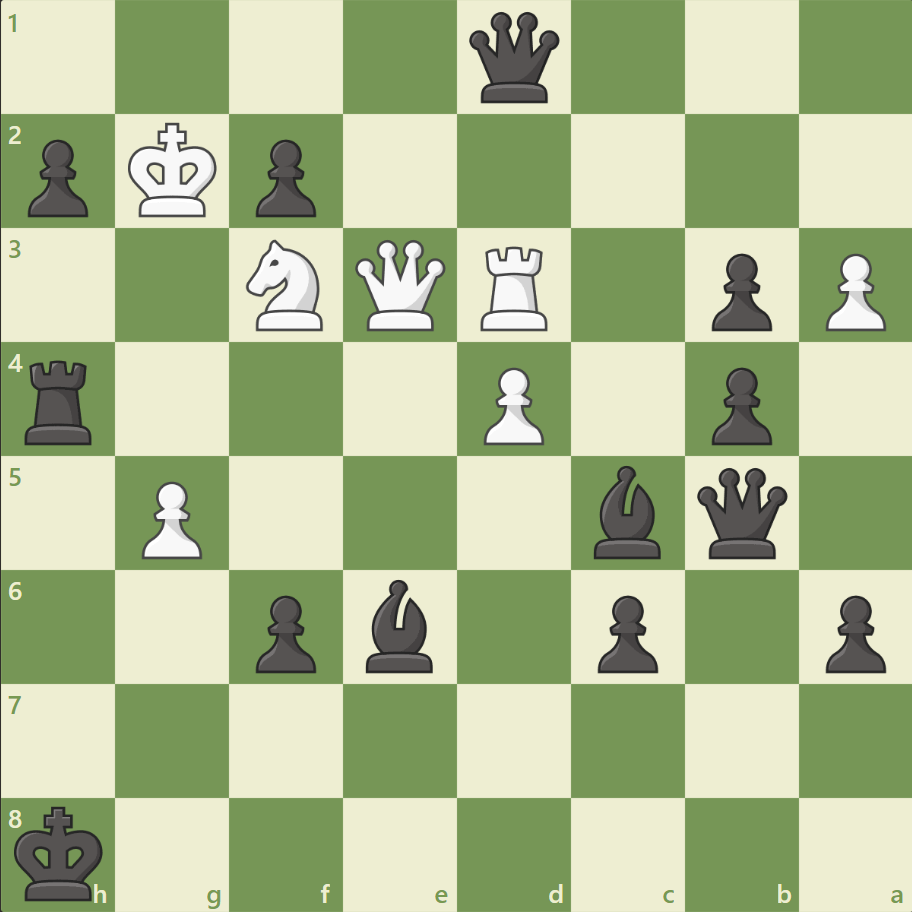K: (124, 117, 224, 225)
N: (238, 234, 335, 337)
P: (133, 473, 208, 564), (474, 359, 549, 450), (815, 246, 889, 337)
Q: (351, 236, 450, 335)
R: (473, 239, 556, 336)
b: (585, 460, 669, 563), (358, 574, 442, 676)
k: (11, 798, 111, 906)
p: (247, 586, 322, 677), (701, 359, 776, 450), (701, 246, 776, 337), (247, 132, 322, 223), (20, 132, 95, 223), (815, 586, 889, 677), (588, 586, 662, 677)
q: (691, 463, 790, 562), (464, 9, 563, 108)
r: (19, 352, 102, 449)
